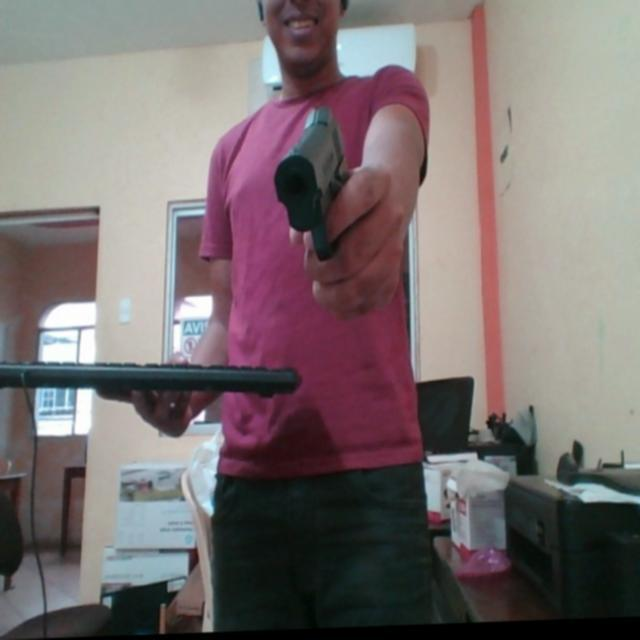weapon: (273, 105, 353, 266)
